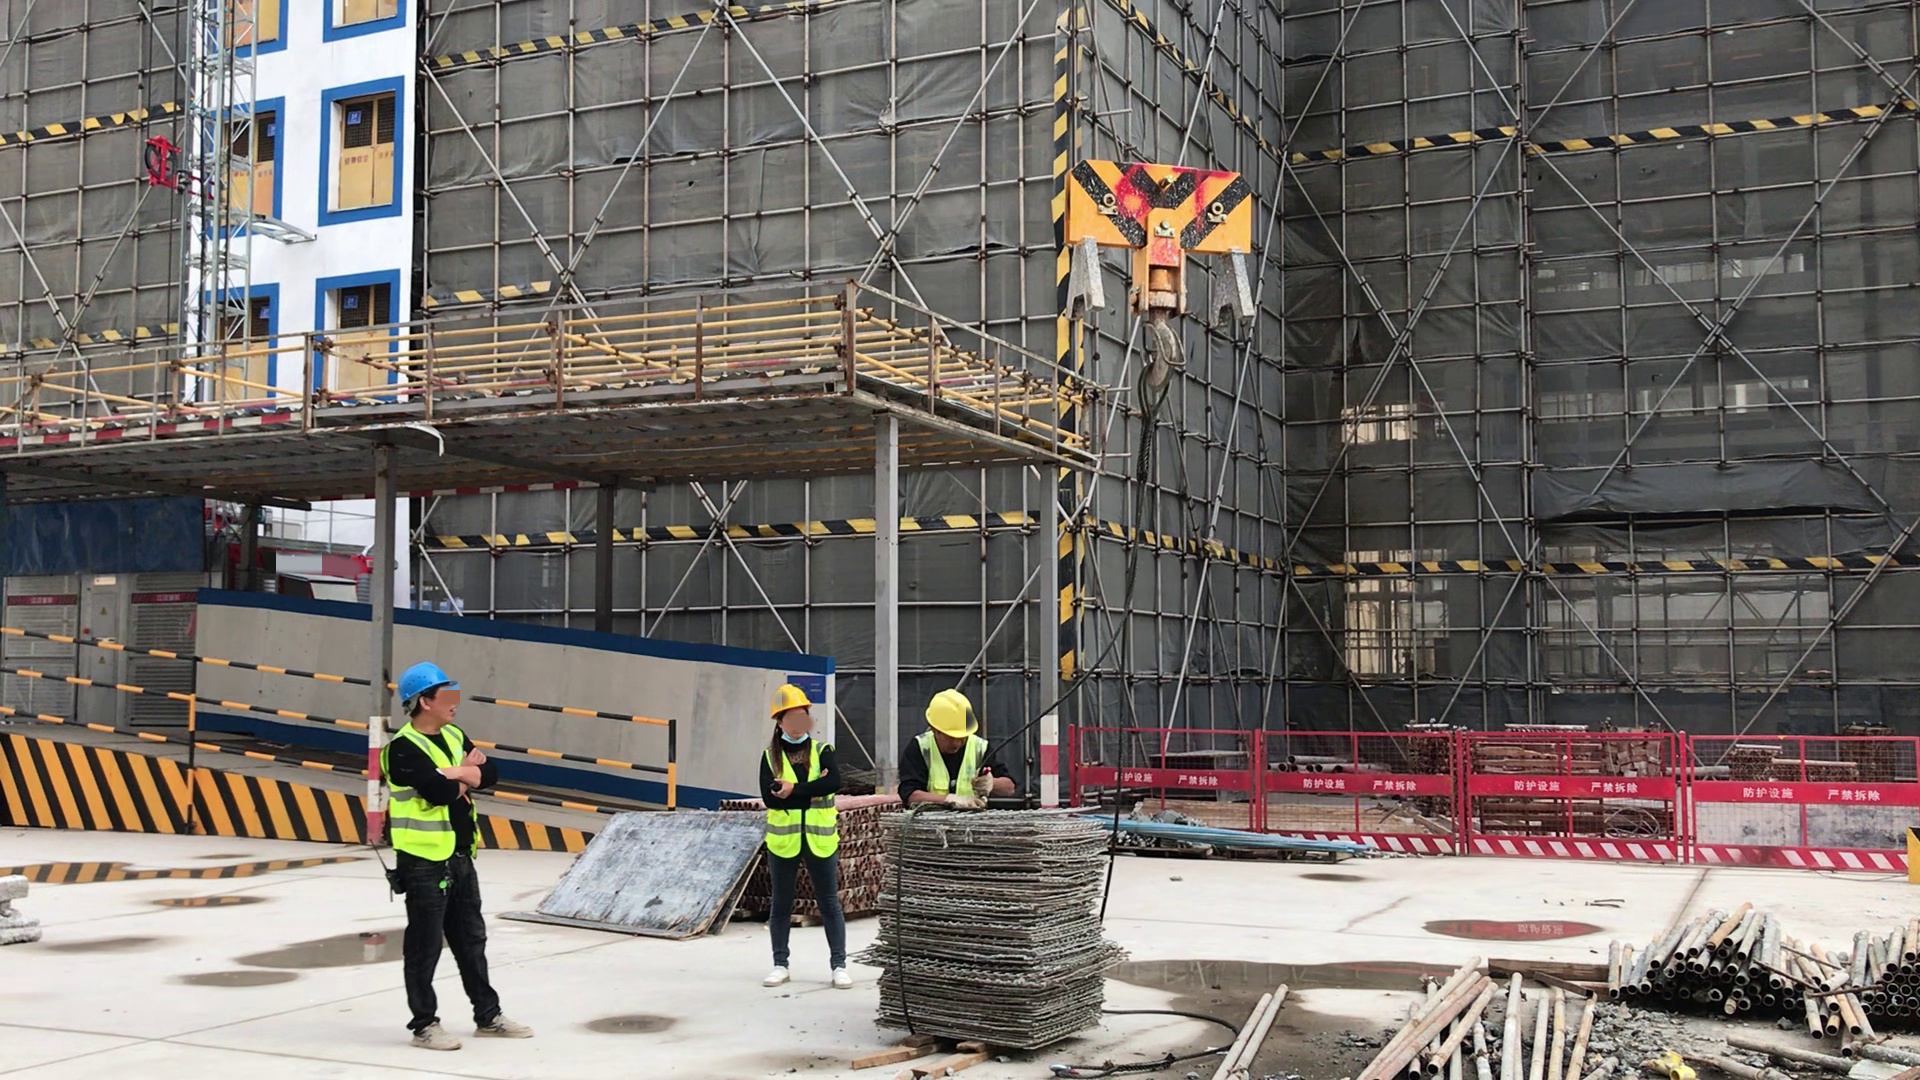fence: (1356, 717, 1897, 882), (13, 620, 366, 779), (1132, 719, 1355, 837), (491, 694, 689, 808)
helmet: (923, 689, 979, 742), (395, 663, 459, 703), (769, 681, 811, 718)
hook: (1063, 148, 1262, 400)
person: (377, 660, 540, 1053), (748, 676, 859, 998), (899, 683, 1021, 812)
scaffold: (1608, 898, 1920, 1039)
slogan: (147, 592, 184, 603), (26, 595, 58, 606)
vest: (377, 721, 485, 859), (758, 739, 840, 863), (905, 733, 988, 809)
